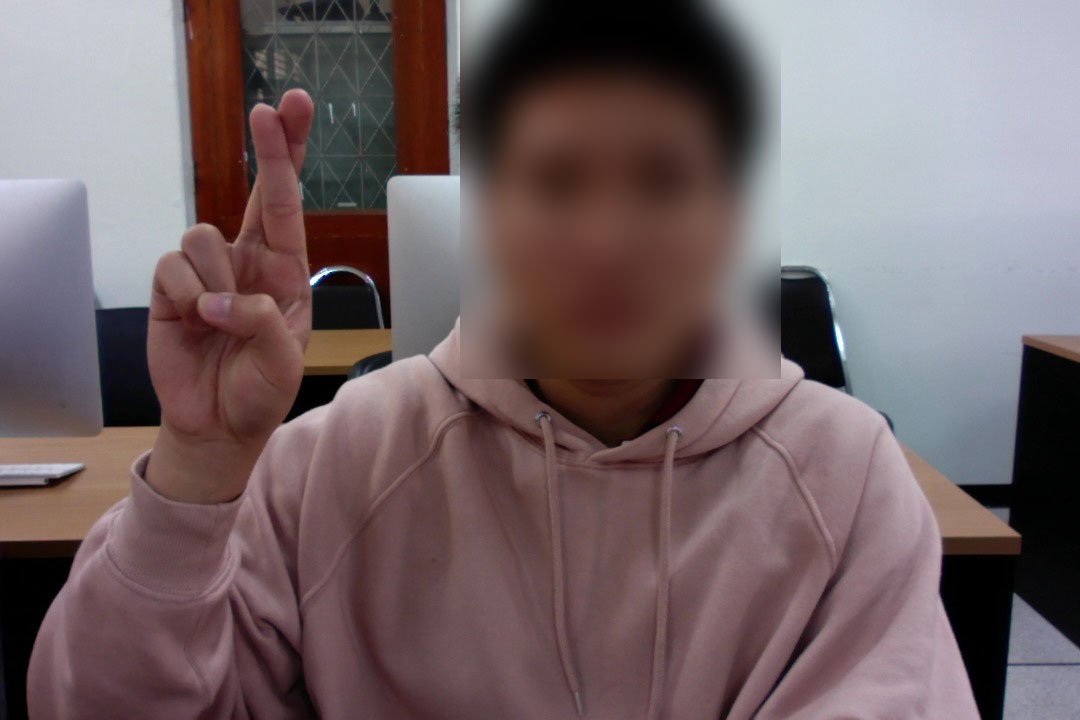rao: (126, 89, 329, 451)
